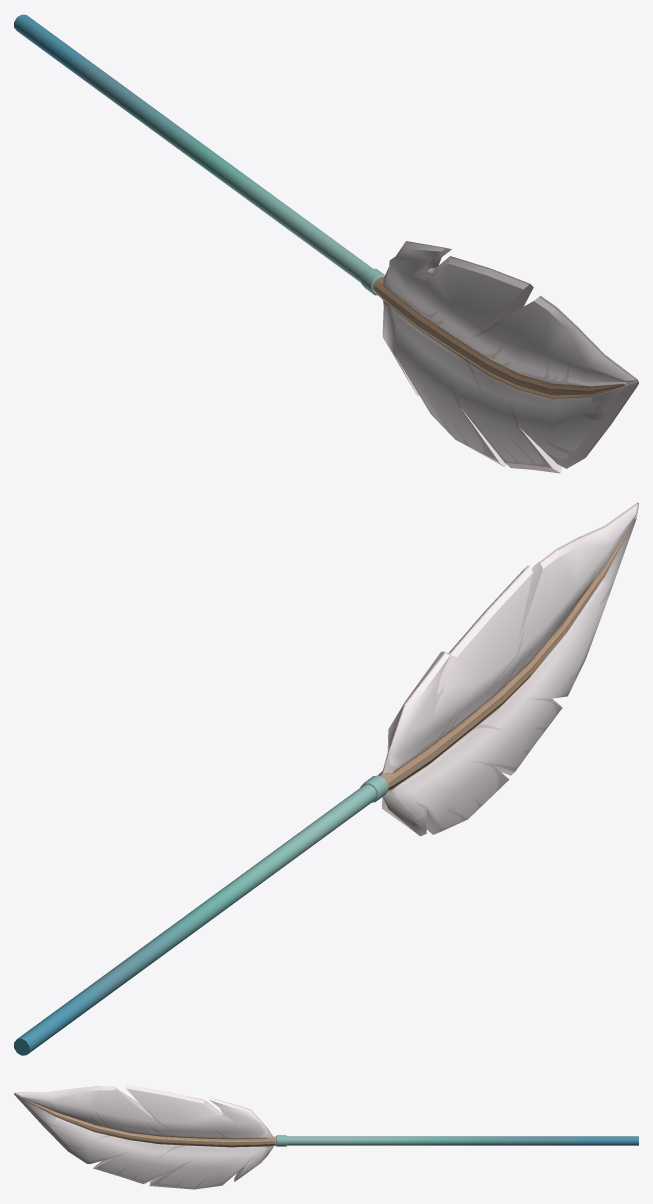
File: Cat_Toy.fbx
3 renders of one model, top to bottom at view 1: azimuth 30°, elevation 25°; view 2: azimuth 150°, elevation 25°; view 3: azimuth 270°, elevation 25°, orthographic. The views are drawn at different scales.
Visible parts, largest first — view 1: polySurface3; view 2: polySurface3; view 3: polySurface3.
Part boxes in pixels (x1=…): polySurface3: x1=14, y1=14, x2=638, y2=473; polySurface3: x1=14, y1=502, x2=638, y2=1055; polySurface3: x1=14, y1=1084, x2=638, y2=1189.
Size of the model in its own units: 0.7598 by 4.1 by 22.06.
